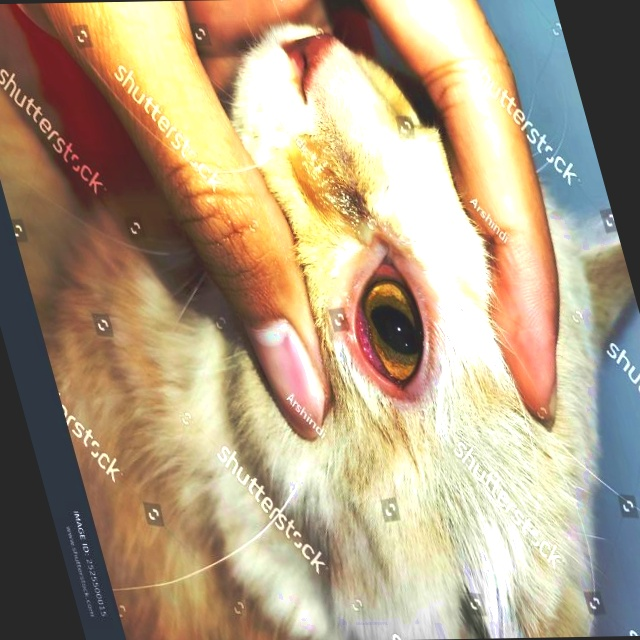eye_infection: (330, 251, 449, 392)
